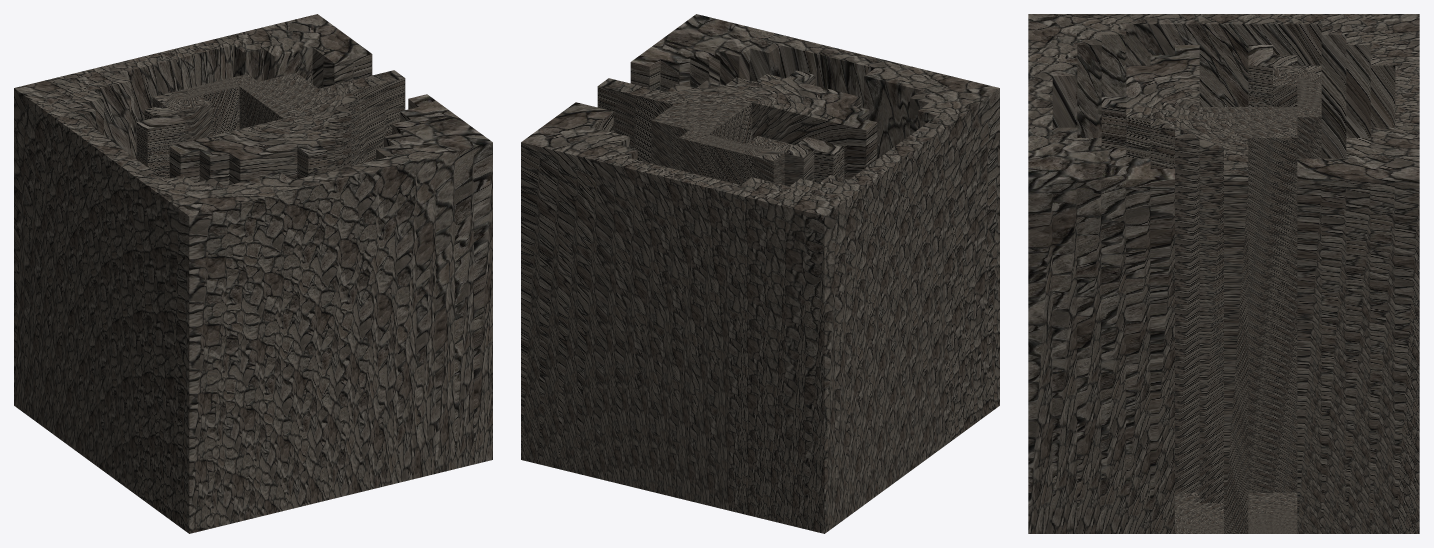
Rendered from DeadEndTemp2.fbx.
3 views of the same model, side by side, from view 1: azimuth 30°, elevation 25°; view 2: azimuth 150°, elevation 25°; view 3: azimuth 270°, elevation 25° (orthographic). The views are drawn at different scales.
Parts seen in each view (by area): view 1: Plane; view 2: Plane; view 3: Plane.
Part boxes in pixels (<box>): Plane: <box>14,14,492,533</box>; Plane: <box>521,14,999,533</box>; Plane: <box>1028,14,1419,533</box>.
Bounding box in the file's own units: 1600 × 1600 × 1600.
